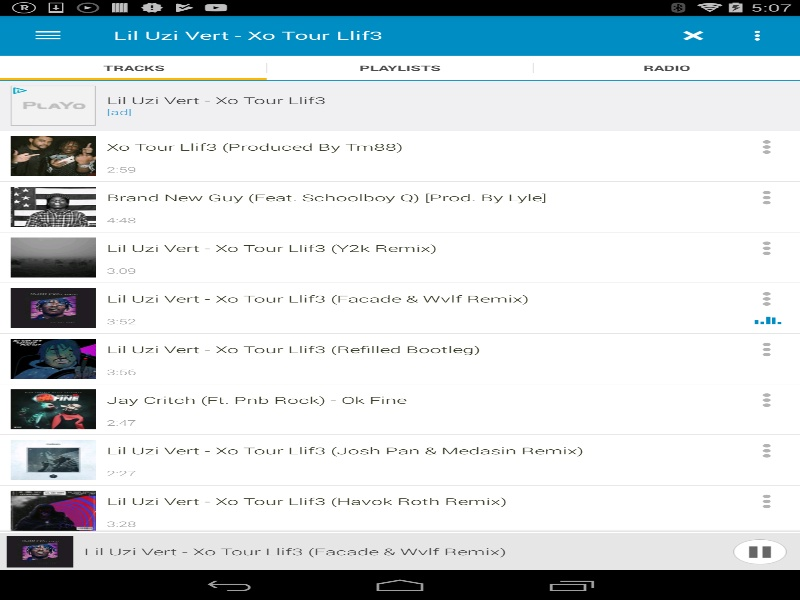Button: (10, 15, 85, 55), (6, 536, 73, 567), (733, 539, 786, 564), (13, 540, 46, 556)
Input: (106, 21, 526, 49)
